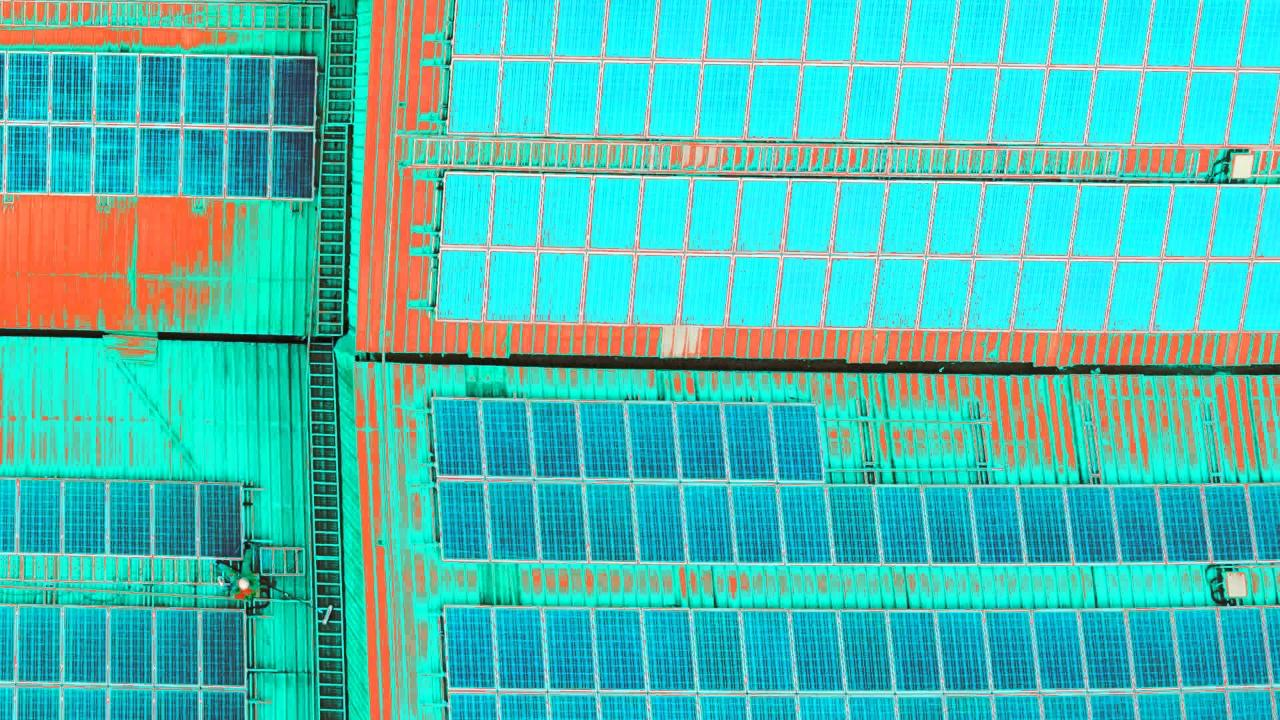dirty: (443, 176, 1280, 336), (451, 7, 1280, 150), (443, 604, 1280, 715), (428, 398, 833, 560), (830, 486, 1280, 566), (6, 605, 253, 713), (5, 473, 247, 562)
semi: (4, 56, 318, 205)
